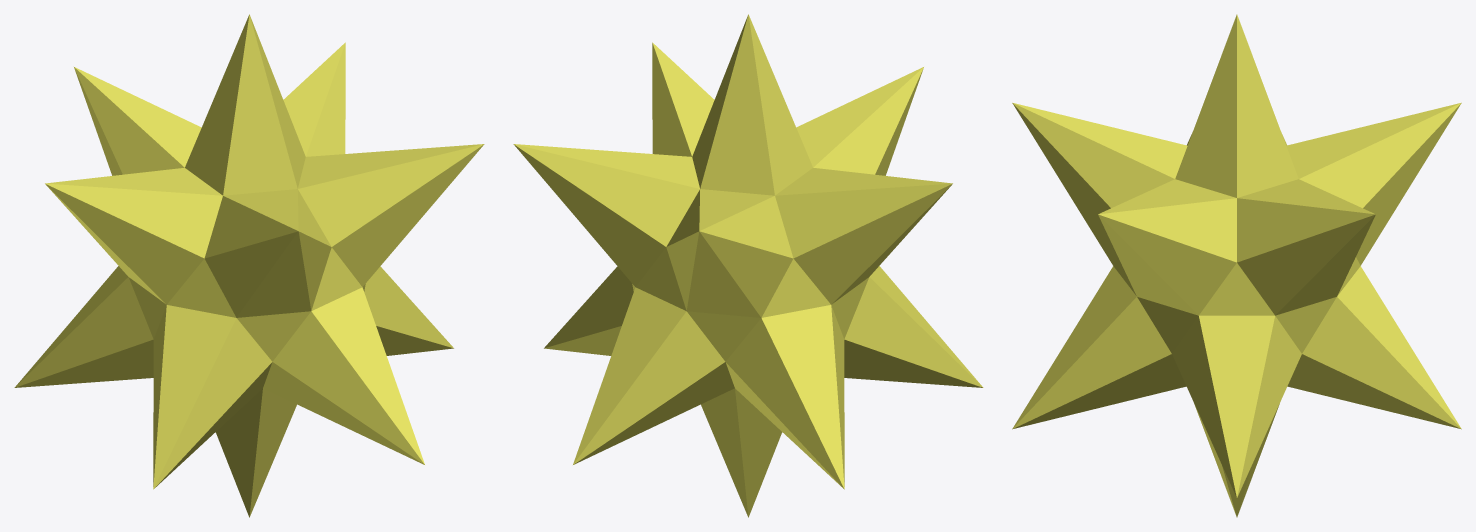
Rendered from Star.fbx.
The picture shows the model from 3 angles, left to right: view 1: azimuth 30°, elevation 25°; view 2: azimuth 150°, elevation 25°; view 3: azimuth 270°, elevation 25°; orthographic projection.
Parts seen in each view (by area): view 1: Star; view 2: Star; view 3: Star.
Part boxes in pixels (box(x1,y1,x2,y2)): Star: box(14, 14, 484, 517); Star: box(513, 14, 983, 517); Star: box(1012, 14, 1461, 517).
Bounding box in the file's own units: 382 × 450 × 364.
